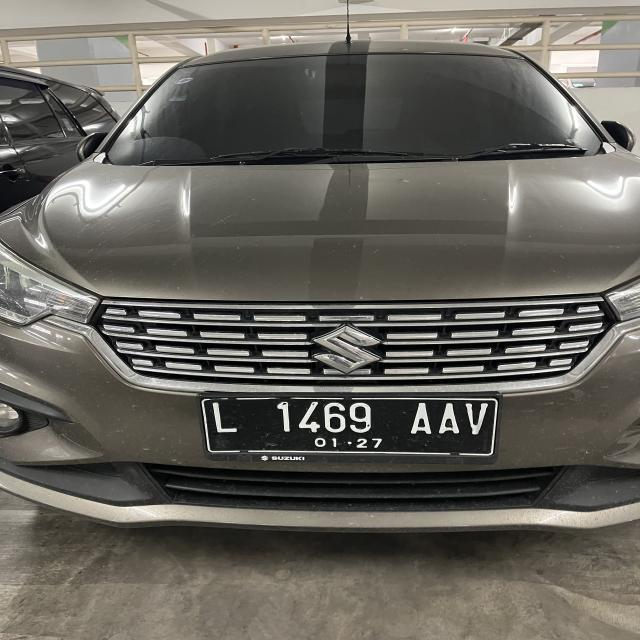1: (271, 400, 293, 434)
4: (300, 401, 322, 434)
6: (324, 400, 349, 438)
9: (350, 402, 376, 435)
A: (439, 402, 462, 438), (412, 403, 434, 433)
L: (210, 401, 239, 436)
V: (464, 402, 486, 434)
